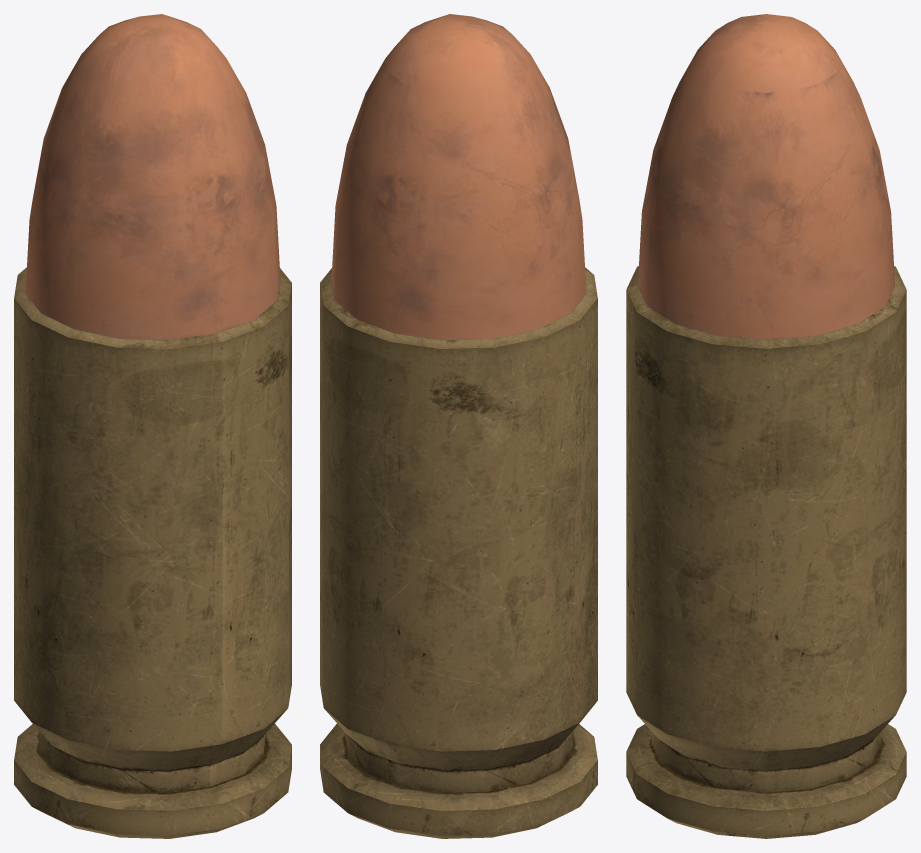
File: bullet_9mm.glb
The picture shows the model from 3 angles, left to right: view 1: azimuth 30°, elevation 25°; view 2: azimuth 150°, elevation 25°; view 3: azimuth 270°, elevation 25°; orthographic projection.
Parts seen in each view (by area): view 1: 9mm_Round_M_9mm.Round_0; view 2: 9mm_Round_M_9mm.Round_0; view 3: 9mm_Round_M_9mm.Round_0.
Part boxes in pixels (x1,y1,x2,y2): 9mm_Round_M_9mm.Round_0: (14, 14, 291, 838); 9mm_Round_M_9mm.Round_0: (320, 14, 597, 838); 9mm_Round_M_9mm.Round_0: (626, 14, 906, 838).
Size of the model in its own units: 0.0151 by 0.0453 by 0.0151.
1 material, 1 textured.
